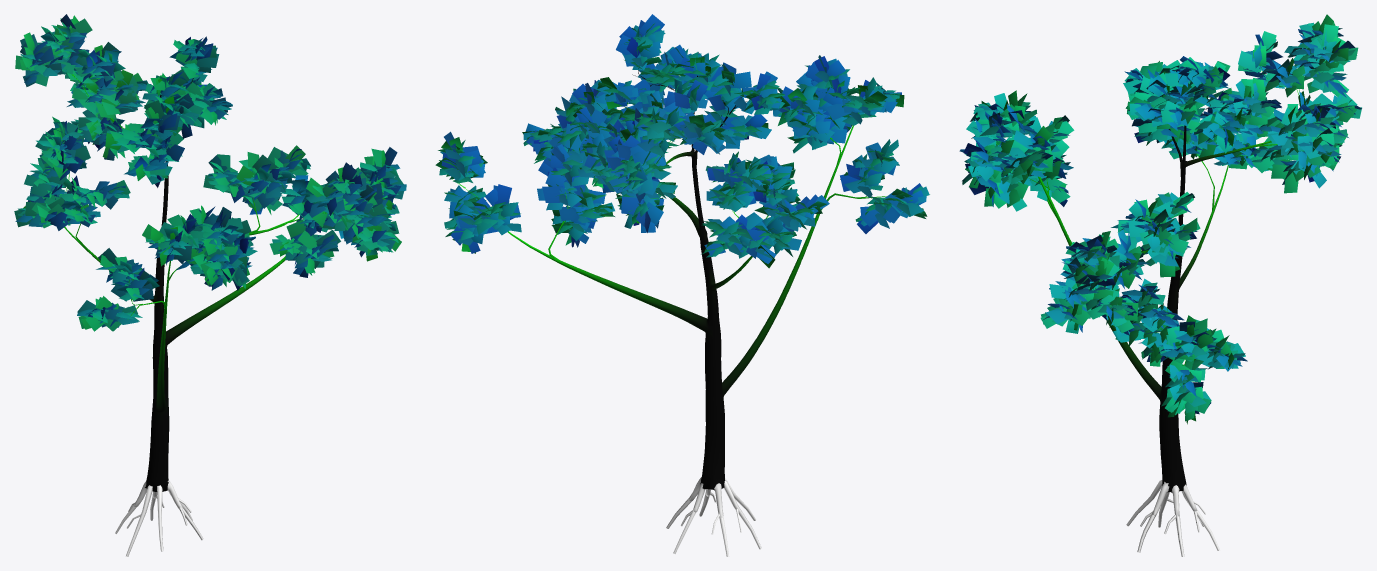
The picture shows the model from 3 angles, left to right: view 1: azimuth 30°, elevation 25°; view 2: azimuth 150°, elevation 25°; view 3: azimuth 270°, elevation 25°; orthographic projection. The views are drawn at different scales.
Parts seen in each view (by area): view 1: Foliage, Trunk, Branches, RootTips, Twigs; view 2: Foliage, Trunk, Branches, RootTips, Twigs; view 3: Foliage, Trunk, Branches, RootTips, Twigs, Roots.
Part boxes in pixels (left/top/right/bottom): Foliage: left=14, top=14, right=406, bottom=331; Trunk: left=145, top=175, right=169, bottom=491; Branches: left=79, top=215, right=298, bottom=412; RootTips: left=115, top=485, right=203, bottom=556; Twigs: left=60, top=60, right=333, bottom=316; Foliage: left=435, top=14, right=929, bottom=268; Trunk: left=691, top=149, right=724, bottom=490; Branches: left=520, top=150, right=838, bottom=396; RootTips: left=666, top=478, right=761, bottom=556; Twigs: left=452, top=68, right=886, bottom=272; Foliage: left=959, top=14, right=1361, bottom=424; Trunk: left=1159, top=160, right=1186, bottom=492; Branches: left=1045, top=143, right=1265, bottom=400; RootTips: left=1126, top=480, right=1219, bottom=556; Twigs: left=996, top=62, right=1325, bottom=365; Roots: left=1152, top=481, right=1197, bottom=516.
Bounding box in the file's own units: 15379 × 13030 × 18472.
